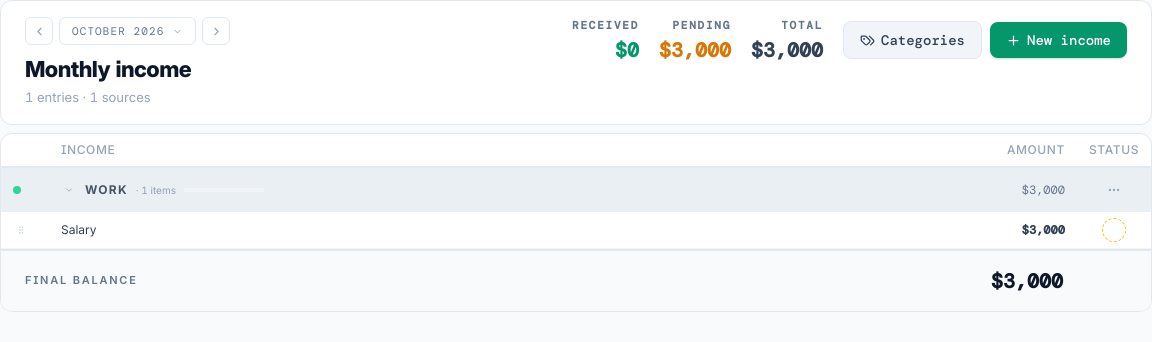
Income › offers only income statuses, defaulting to expected
Expected: the text "Salary" is shown, [49, 212, 933, 248]
Step 1. Click the 9th button → (1114, 230), box [1102, 218, 1126, 242]
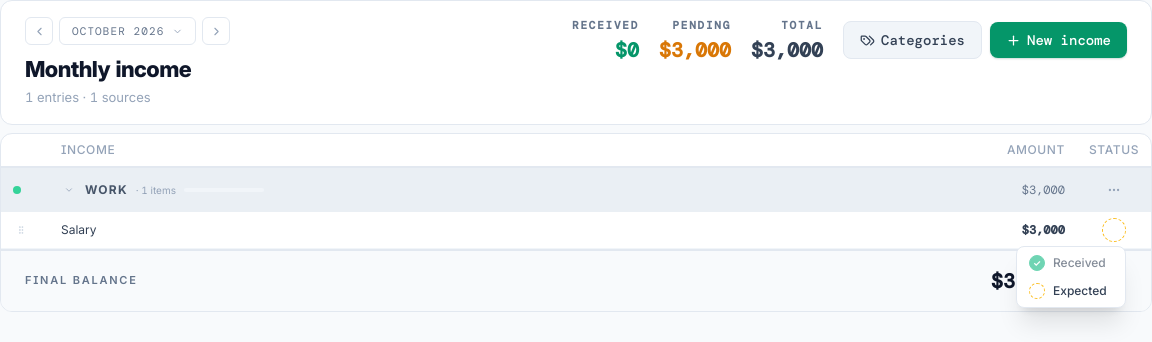
Result: the button "Expected" is shown at [1017, 276, 1125, 304]
